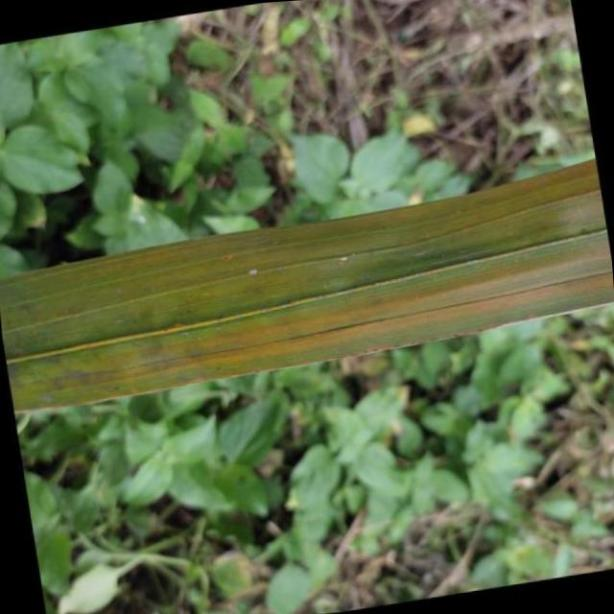Megnesium: (3, 154, 614, 414)
